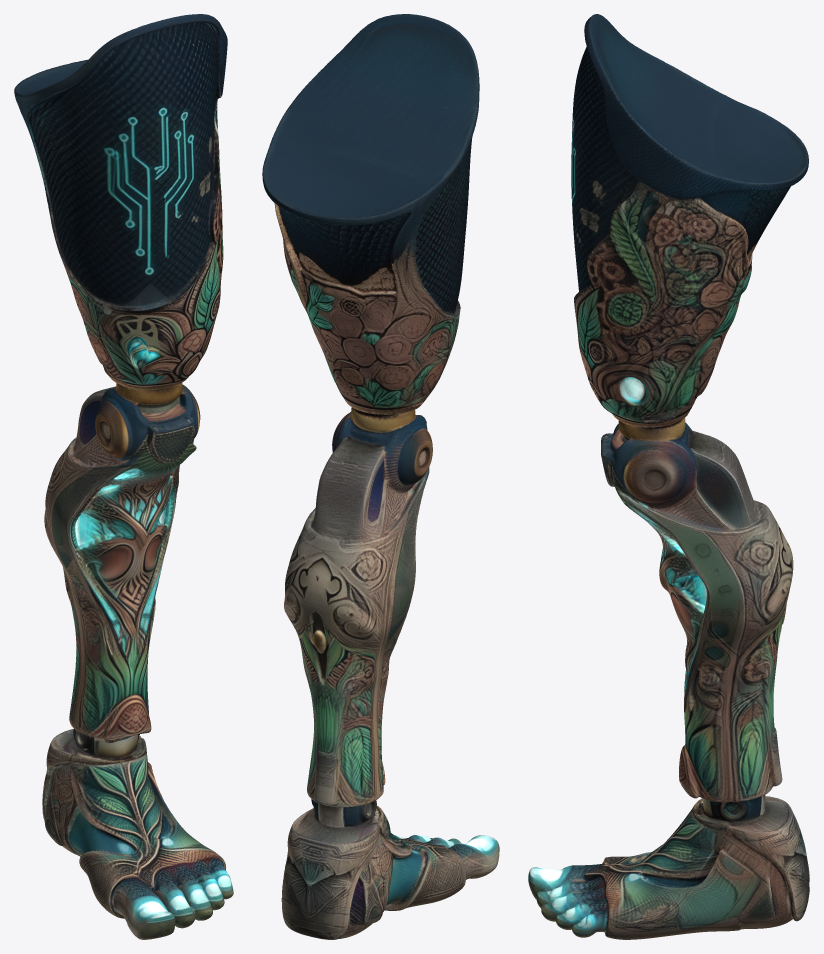
File: limb_11.glb
The picture shows the model from 3 angles, left to right: view 1: azimuth 30°, elevation 25°; view 2: azimuth 150°, elevation 25°; view 3: azimuth 270°, elevation 25°; orthographic projection. The views are drawn at different scales.
Size of the model in its own units: 0.4085 by 1.9 by 0.5435.
1 material, 1 textured.
